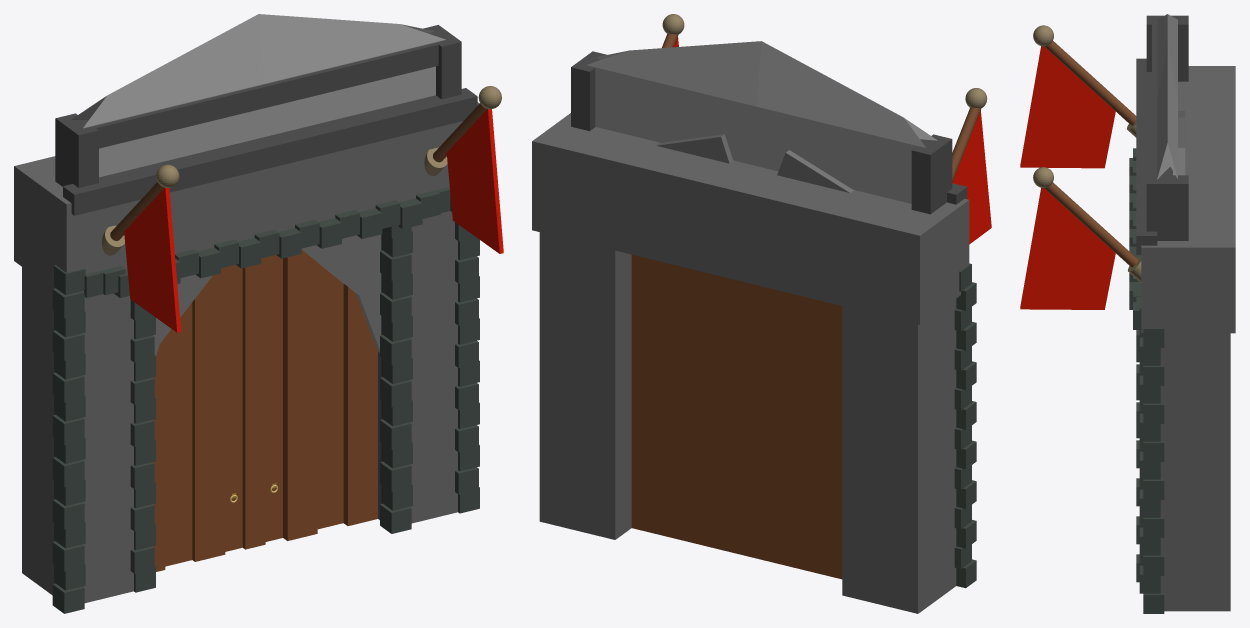
Rendered from gateway 1.fbx.
3 views of the same model, side by side, from view 1: azimuth 30°, elevation 25°; view 2: azimuth 150°, elevation 25°; view 3: azimuth 270°, elevation 25° (orthographic). The views are drawn at different scales.
Visible parts, largest first — view 1: poort_LOD0; view 2: poort_LOD0; view 3: poort_LOD0.
Part boxes in pixels (x1,y1,x2,y2): poort_LOD0: (14, 14, 503, 613); poort_LOD0: (532, 14, 991, 613); poort_LOD0: (1020, 14, 1235, 613).
Size of what is drawn, in the model's own units: 41.62 by 50.76 by 20.57.
